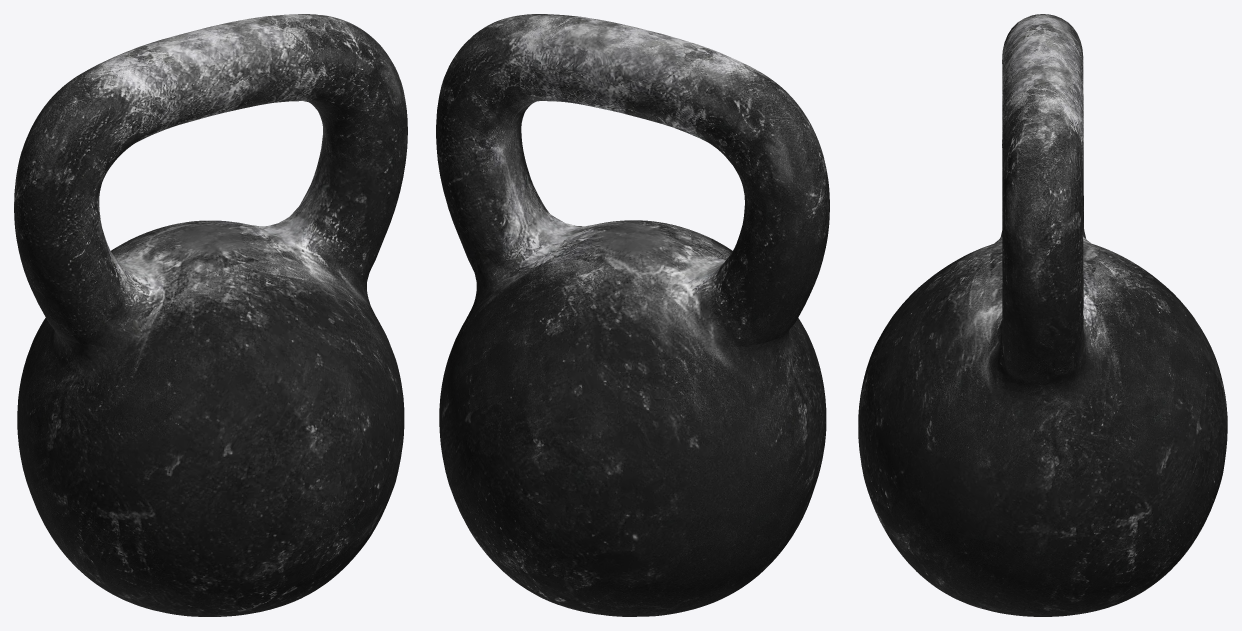
Rendered from gymbuddy-kettlebell.glb.
3 views of the same model, side by side, from view 1: azimuth 30°, elevation 25°; view 2: azimuth 150°, elevation 25°; view 3: azimuth 270°, elevation 25° (orthographic). The views are drawn at different scales.
Parts seen in each view (by area): view 1: Mesh_0; view 2: Mesh_0; view 3: Mesh_0.
Part boxes in pixels (x1=…): Mesh_0: x1=14, y1=14, x2=407, y2=616; Mesh_0: x1=436, y1=14, x2=829, y2=616; Mesh_0: x1=858, y1=14, x2=1227, y2=616.
Size of the model in its own units: 1.4 by 1.9 by 1.22.
Materials: 1 (1 with a texture image).
